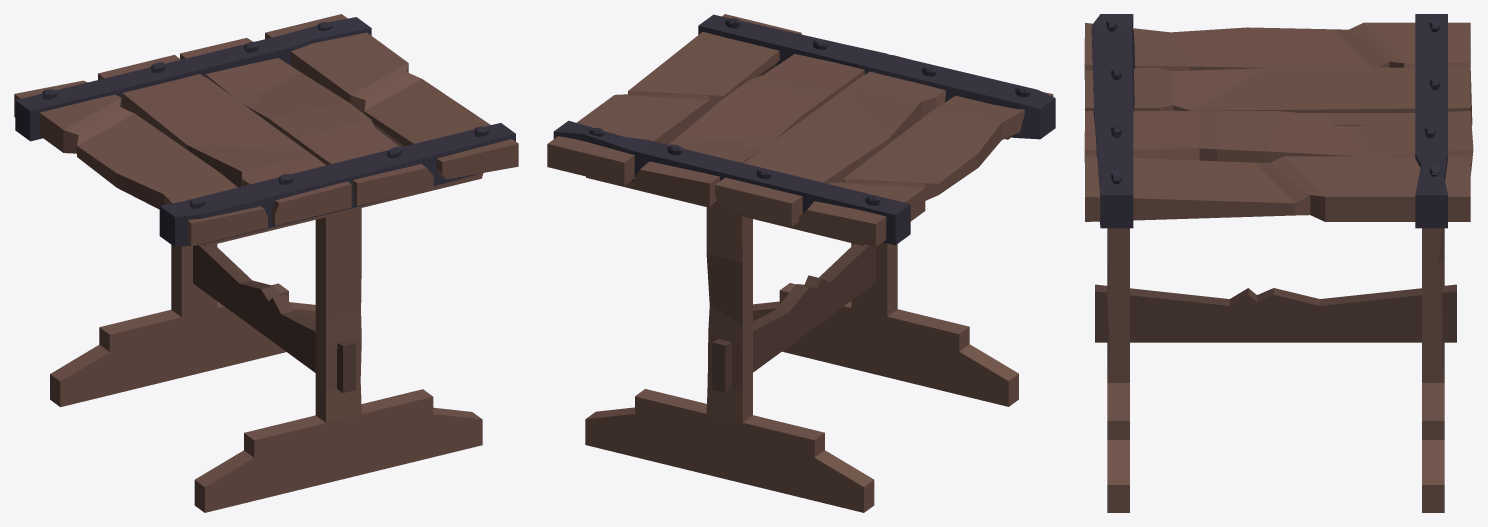
Rendered from prp_station_workbench.glb.
3 renders of one model, left to right at view 1: azimuth 30°, elevation 25°; view 2: azimuth 150°, elevation 25°; view 3: azimuth 270°, elevation 25°, orthographic. The views are drawn at different scales.
Visible parts, largest first — view 1: Mesh; view 2: Mesh; view 3: Mesh.
Part boxes in pixels (x1,y1,x2,y2): Mesh: [14, 14, 518, 512]; Mesh: [547, 14, 1055, 512]; Mesh: [1084, 14, 1473, 512].
Bounding box in the file's own units: 1.5 × 1.32 × 1.36.
